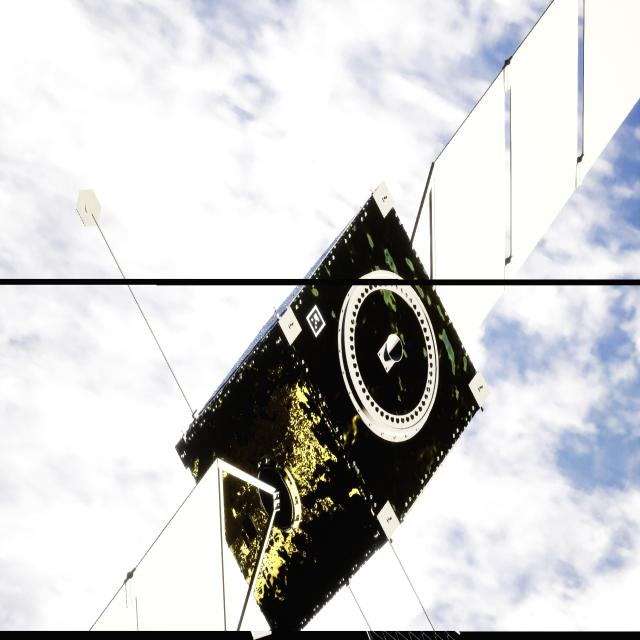medium_debris: (96, 0, 640, 634)
